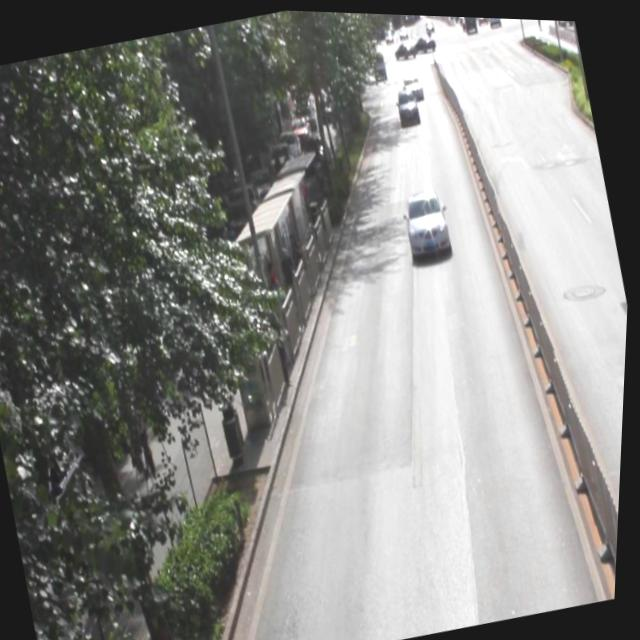car: (397, 178, 455, 258), (391, 81, 422, 123)
